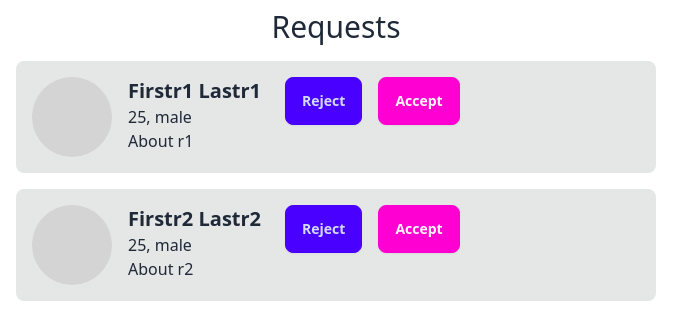
Test case: Requests › rejects a request and removes it from the store
The image size is (673, 318).
Expected: the heading "Firstr1 Lastr1" is shown, [128, 77, 261, 105]
Click the button "Reject" next to "Firstr1 Lastr1" at (324, 101), box [285, 77, 362, 125]
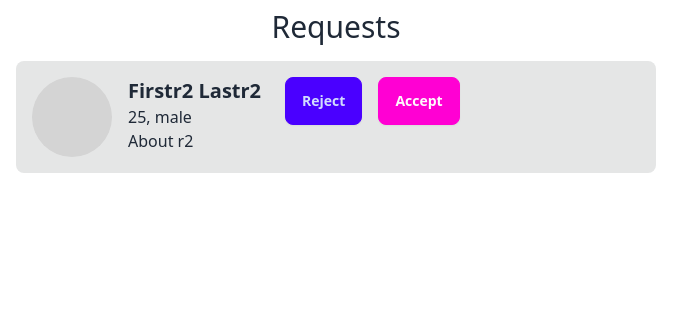
Now the heading "Firstr1 Lastr1" is gone
